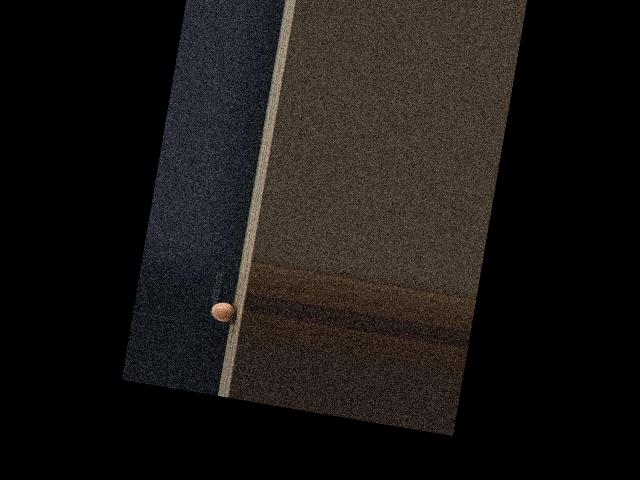egg: (210, 301, 233, 323)
